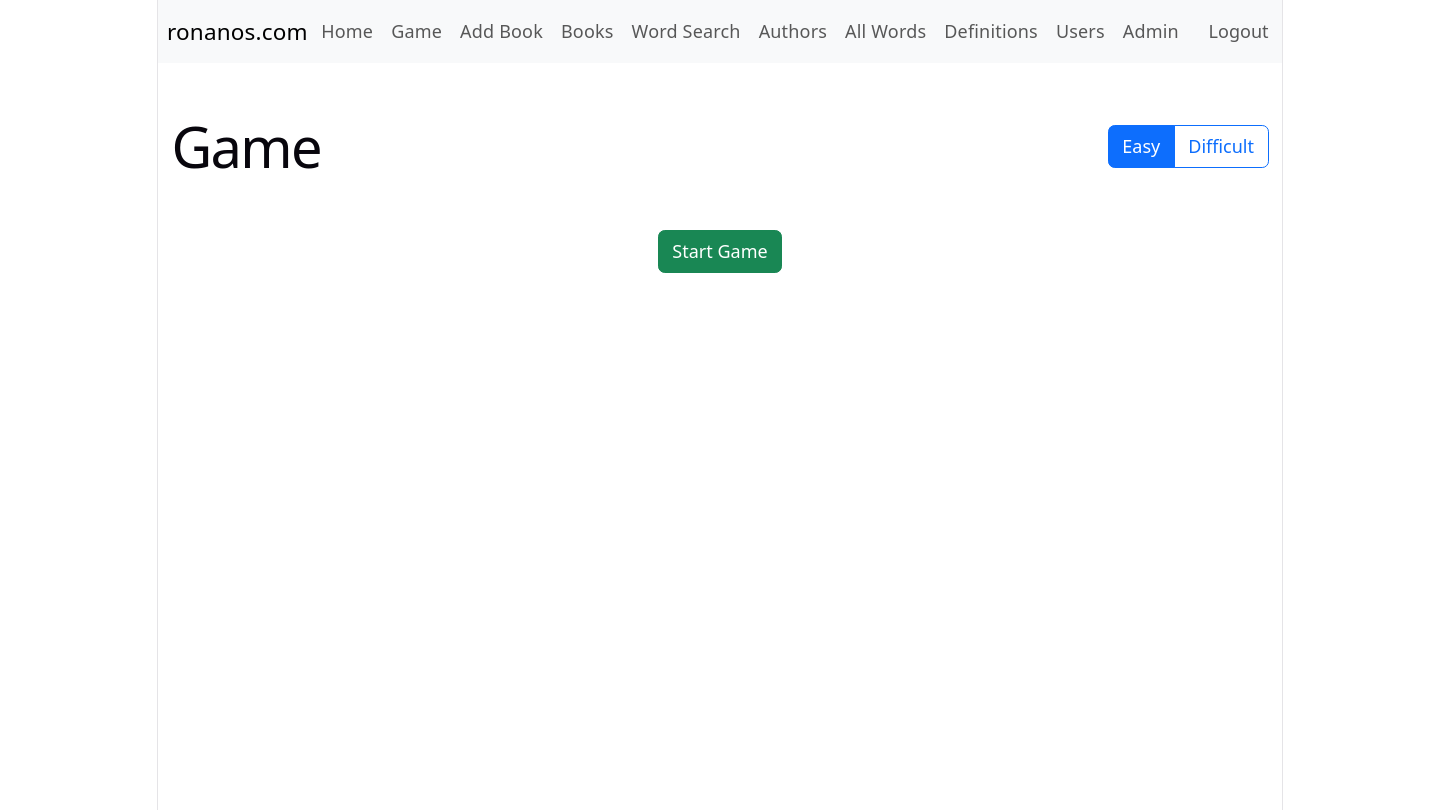
Game › shows results after the final question
This screenshot has width=1440, height=810.
What coordinates should you click on to do the following:
click the button "Start Game"
I would click on:
 (720, 251)
Its box is top-left (658, 230), bottom-right (782, 273).
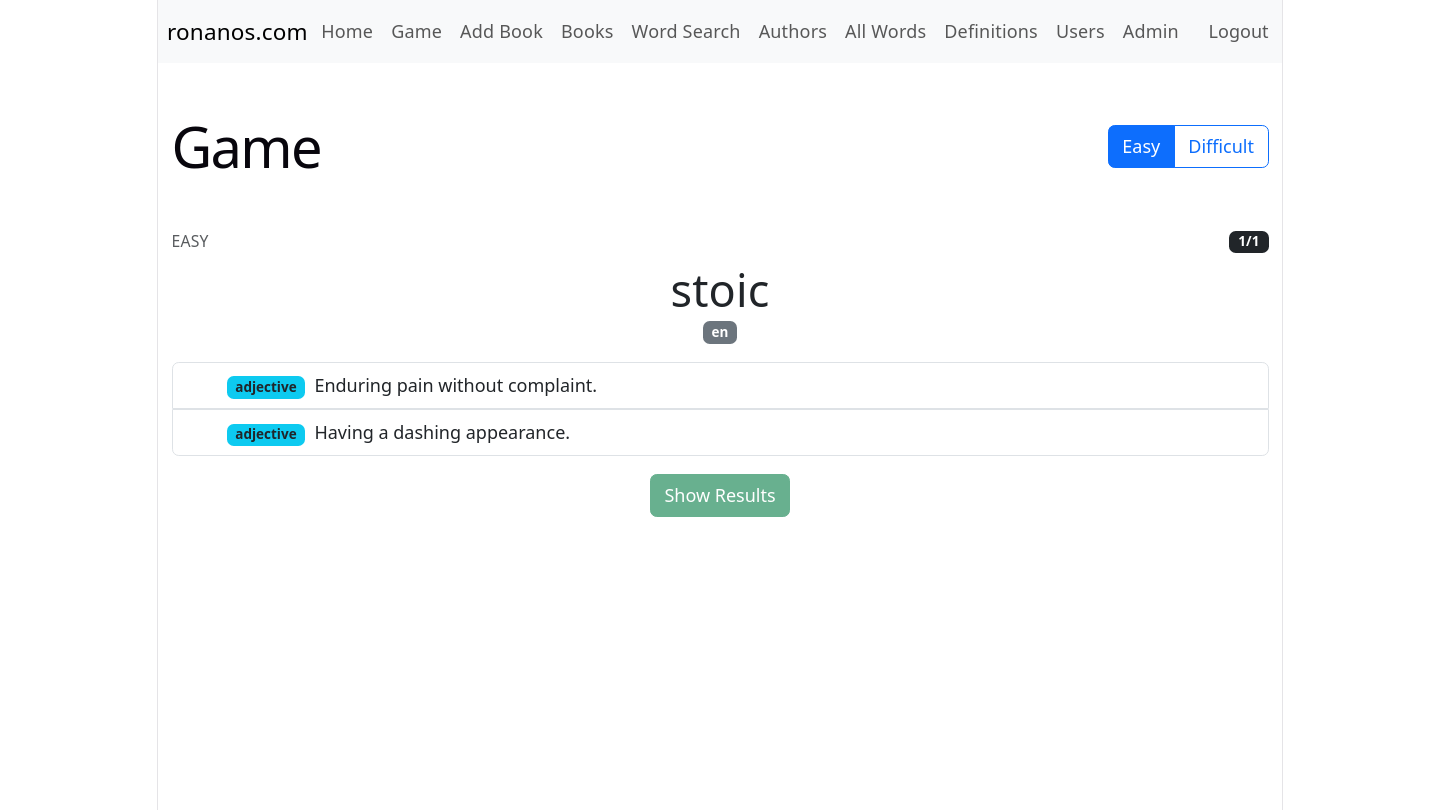
Now the text "stoic" is shown, box top-left (670, 259), bottom-right (770, 320)
What coordinates should you click on to do the following:
click the button "adjective Having a dashing appearance."
I would click on:
 (266, 435)
Its box is top-left (172, 409), bottom-right (1268, 456).
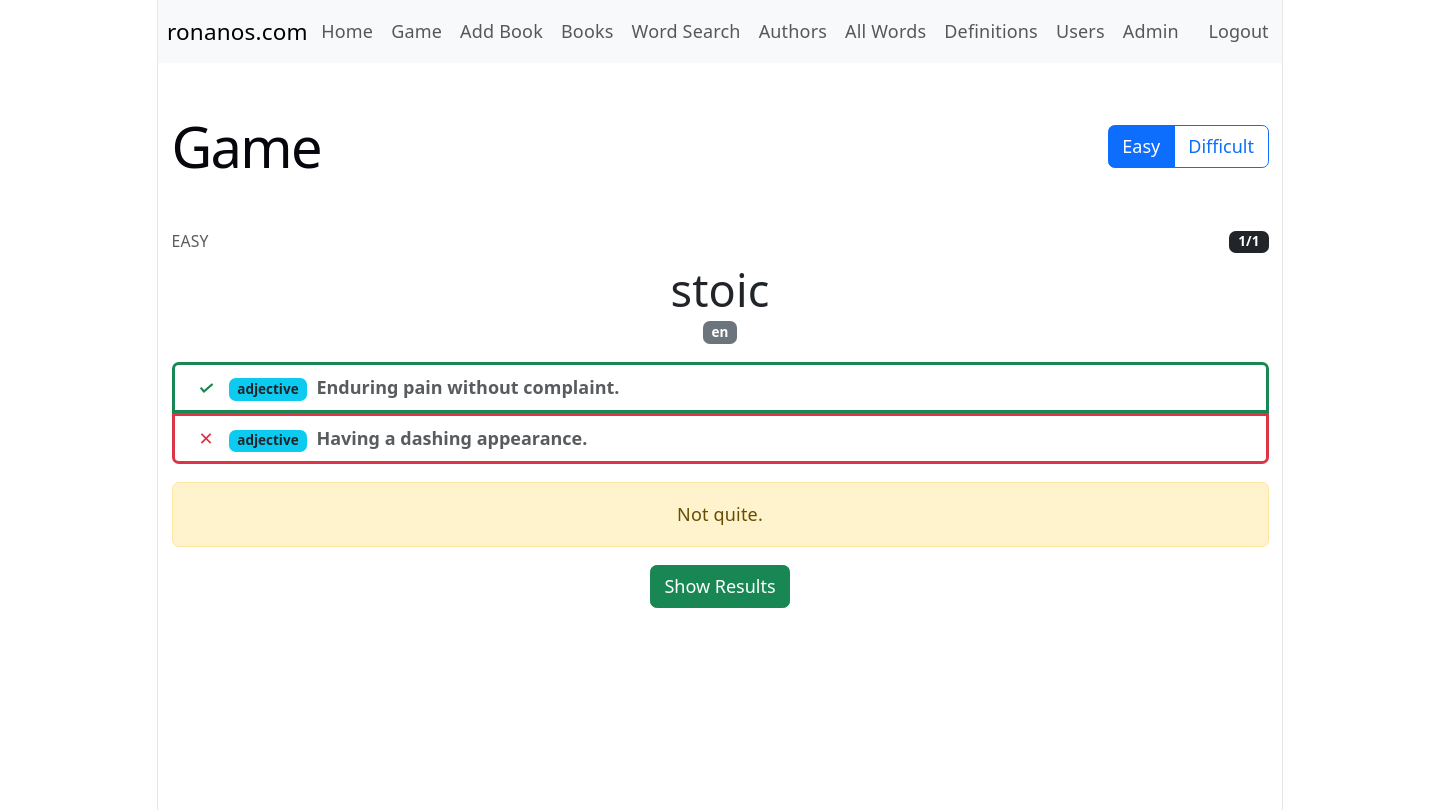
Now the text "Not quite." is shown, box top-left (172, 482), bottom-right (1268, 548)
Now the text named "Incorrect" is shown, box top-left (198, 425), bottom-right (214, 452)
What coordinates should you click on to do the following:
click the button "Show Results"
I would click on:
 (720, 587)
Its box is top-left (650, 566), bottom-right (790, 608).
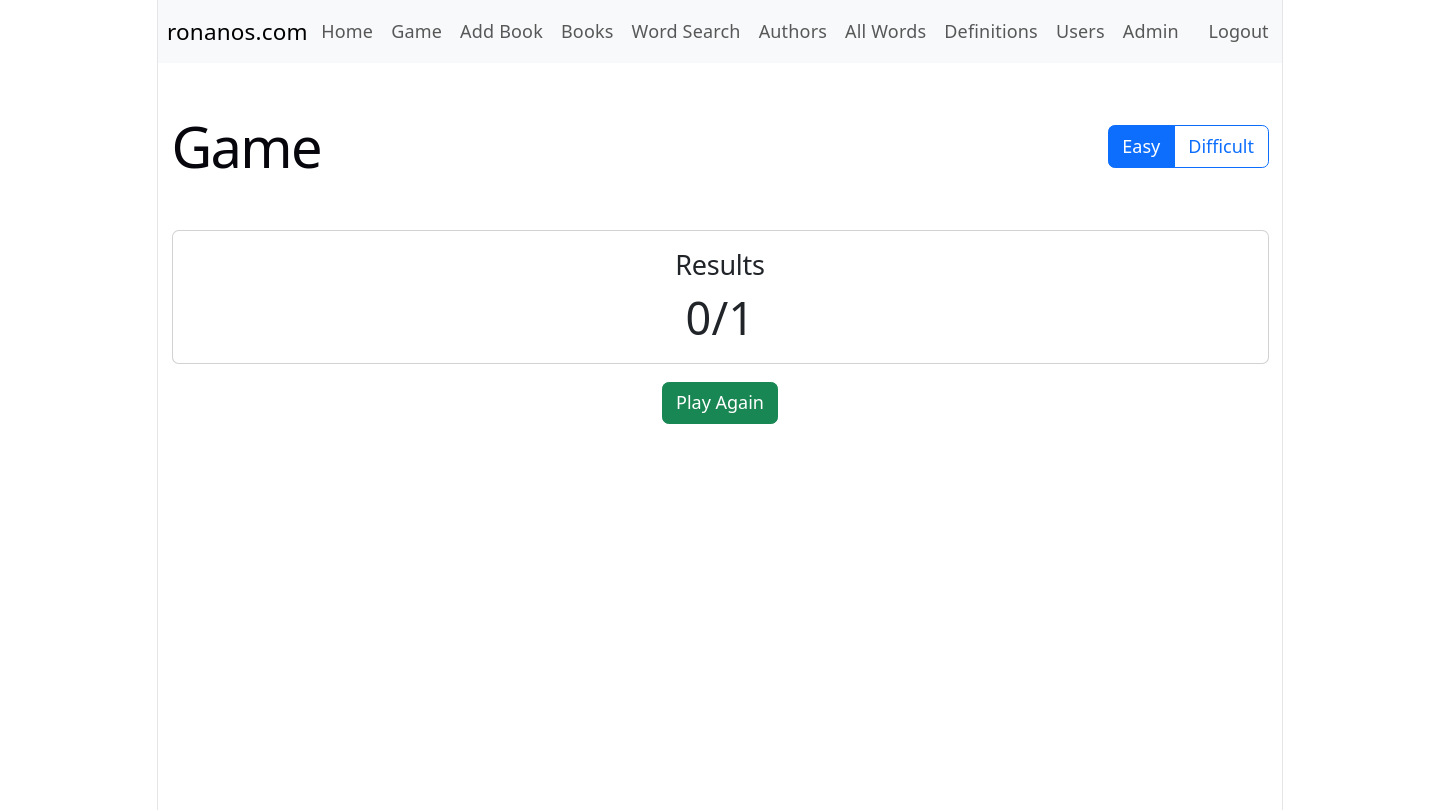
Now the heading "Results" is shown, box top-left (675, 246), bottom-right (765, 283)
Now the text "0/1" is shown, box top-left (686, 287), bottom-right (754, 348)
